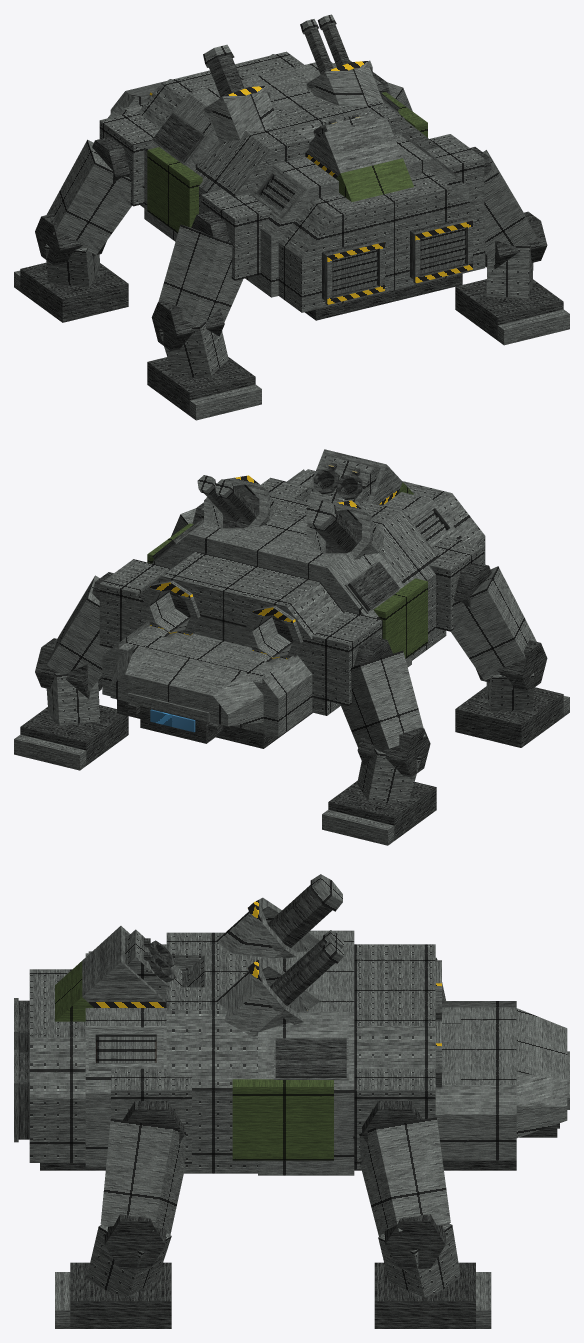
The model's file is armadillo.glb.
The picture shows the model from 3 angles, top to bottom: view 1: azimuth 30°, elevation 25°; view 2: azimuth 150°, elevation 25°; view 3: azimuth 270°, elevation 25°; orthographic projection. The views are drawn at different scales.
Visible parts, largest first — view 1: band, band.002, thigh.002, thigh, band.001, band.003, foot, hatch_frame, ablative, hip_cuff.002, foot.003, foot.002 (+31 smaller); view 2: band.004, band.003, band.005, cowl, band.002, thigh.002, thigh, foot.002, hip_cuff, thigh.001, foot.001, hip_cuff.001 (+33 smaller); view 3: band.002, band.005, band, band.004, band.003, ablative.001, thigh.001, thigh.003, cowl, foot.003, foot.001, band.001 (+29 smaller).
Part boxes in pixels (x1,y1,x2,y2): band: [278, 171, 485, 312]; band.002: [194, 98, 438, 213]; thigh.002: [156, 224, 243, 324]; thigh: [46, 139, 144, 255]; band.001: [245, 134, 469, 297]; band.003: [144, 62, 404, 241]; foot: [20, 262, 128, 322]; hatch_frame: [305, 117, 402, 178]; ablative: [147, 147, 202, 233]; hip_cuff.002: [201, 189, 271, 280]; foot.003: [455, 279, 563, 340]; foot.002: [147, 357, 255, 415]; band.004: [121, 551, 343, 715]; band.003: [152, 515, 411, 667]; band.005: [102, 612, 312, 737]; cowl: [110, 645, 263, 726]; band.002: [222, 477, 446, 660]; thigh.002: [436, 566, 536, 680]; thigh: [340, 650, 425, 751]; foot.002: [455, 686, 563, 747]; hip_cuff: [312, 611, 382, 705]; thigh.001: [46, 575, 111, 690]; foot.001: [20, 705, 128, 765]; hip_cuff.001: [99, 559, 169, 648]; band.002: [166, 932, 262, 1173]; band.005: [435, 1001, 516, 1160]; band: [29, 969, 85, 1162]; band.004: [354, 953, 435, 1169]; band.003: [258, 930, 354, 1175]; ablative.001: [232, 1079, 333, 1160]; thigh.001: [353, 1117, 450, 1236]; thigh.003: [100, 1119, 185, 1234]; cowl: [516, 1008, 567, 1137]; foot.003: [70, 1262, 171, 1328]; foot.001: [374, 1262, 475, 1328]; band.001: [85, 953, 166, 1166].
Size of the model in its own units: 103 by 67.93 by 110.
10 materials, 10 textured.
